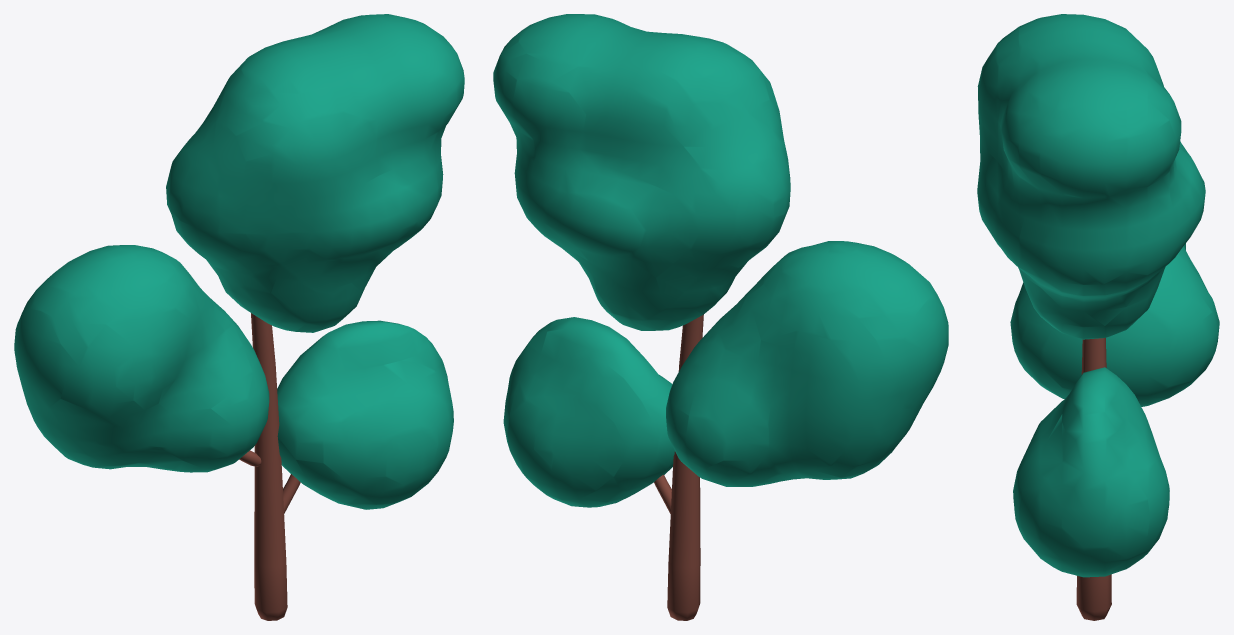
File: treeDef1.fbx
3 renders of one model, left to right at view 1: azimuth 30°, elevation 25°; view 2: azimuth 150°, elevation 25°; view 3: azimuth 270°, elevation 25°, orthographic. The views are drawn at different scales.
Parts seen in each view (by area): view 1: Mball.011; view 2: Mball.011; view 3: Mball.011.
Boxes of the visible parts, box(x1,y1,x2,y2) form: Mball.011: box(14, 14, 464, 620); Mball.011: box(493, 14, 948, 620); Mball.011: box(977, 14, 1219, 620).
Bounding box in the file's own units: 982 × 1240 × 452.
